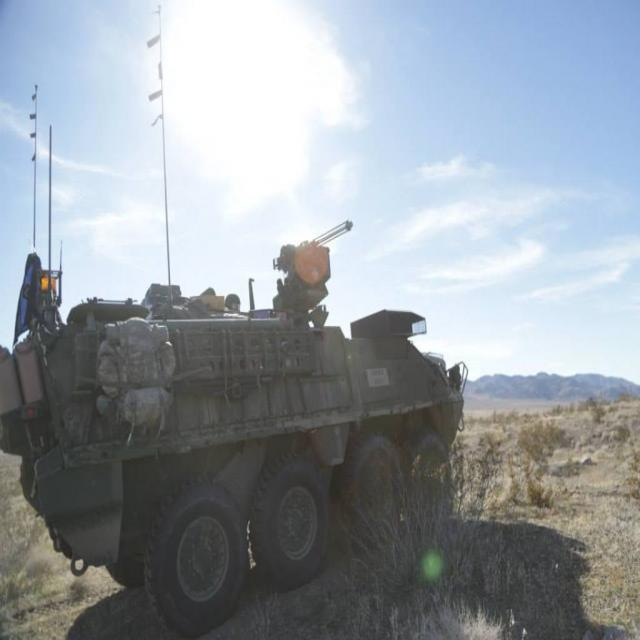tank: (0, 221, 468, 639)
